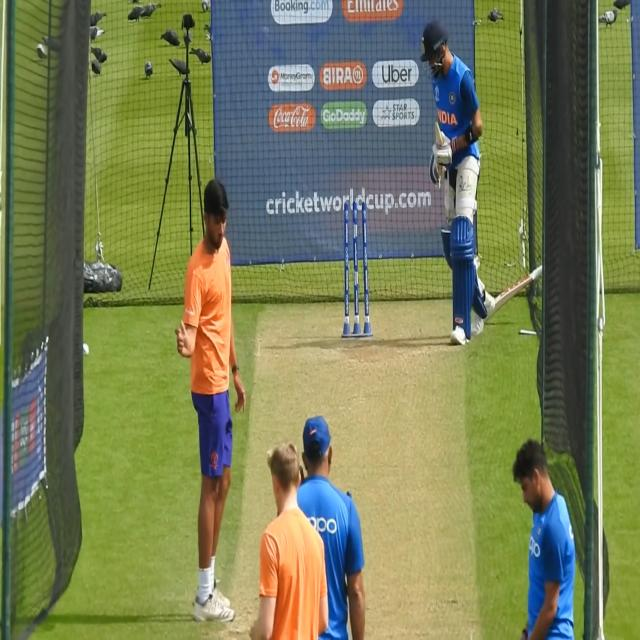stump: (343, 202, 372, 343)
